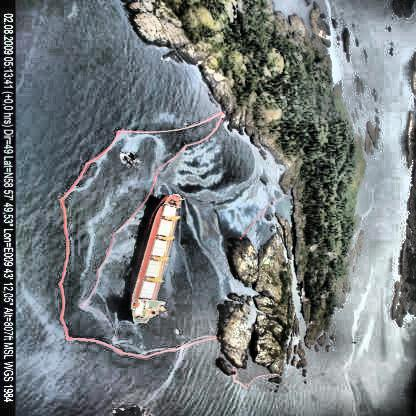sheen: (161, 124, 285, 298)
